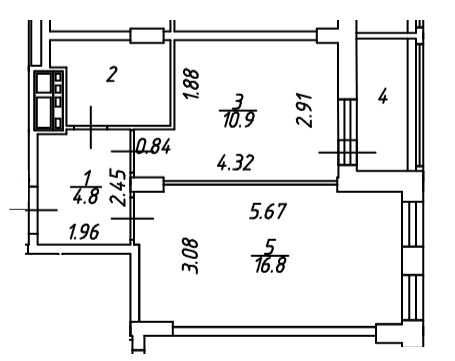balcony_door: (318, 137, 378, 168)
balcony_wall: (405, 32, 427, 173)
door: (8, 184, 58, 233), (109, 129, 154, 171), (111, 198, 156, 240), (72, 104, 109, 150)
vent_channel: (30, 92, 66, 131), (32, 66, 67, 97)
window: (398, 198, 427, 249), (398, 271, 427, 322), (334, 96, 362, 143)
